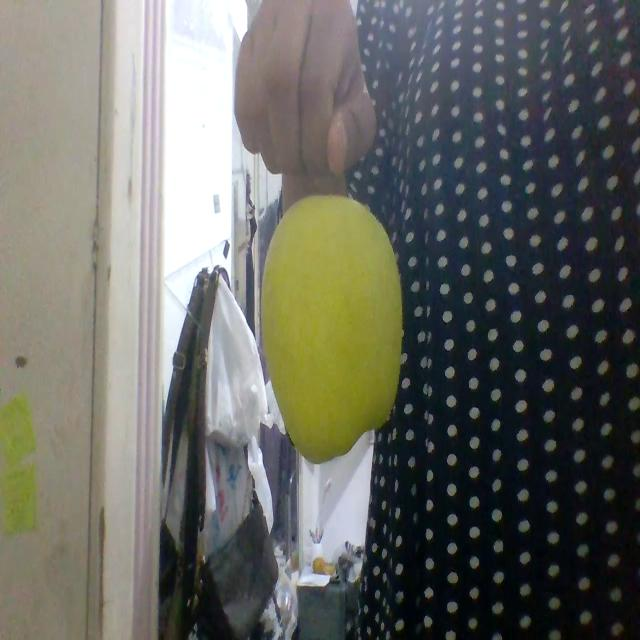50-_ripeness: (260, 193, 402, 464)
